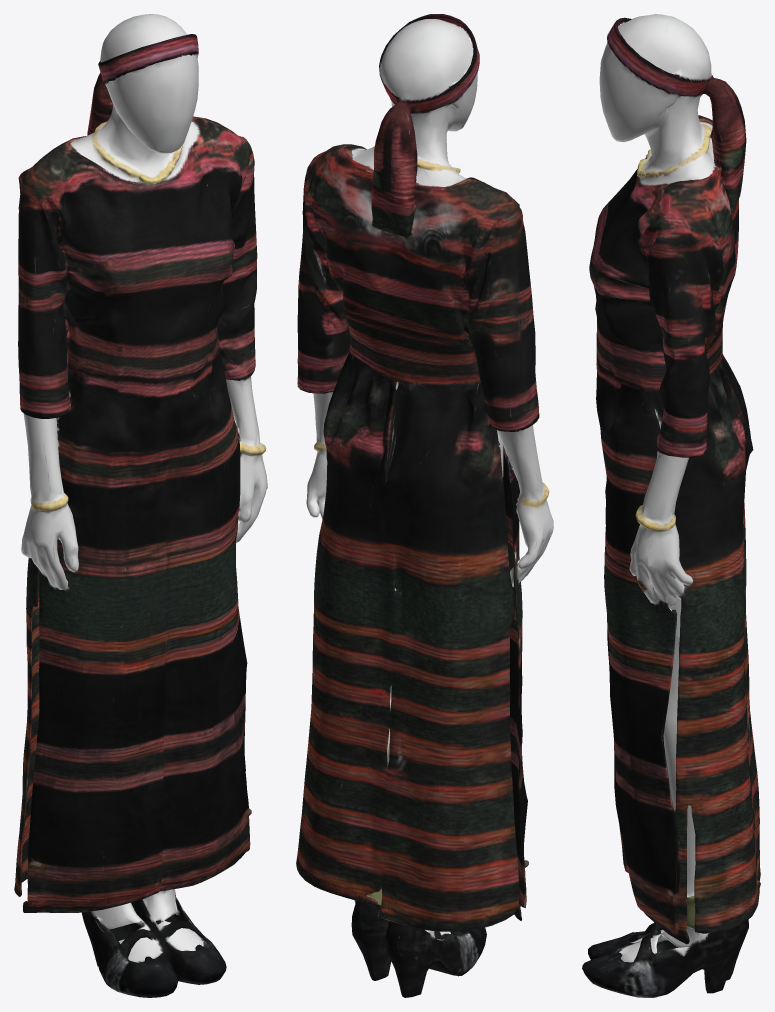
Rendered from Chu_ru_nu_00001.glb.
3 views of the same model, side by side, from view 1: azimuth 30°, elevation 25°; view 2: azimuth 150°, elevation 25°; view 3: azimuth 270°, elevation 25° (orthographic). The views are drawn at different scales.
Bounding box in the file's own units: 0.255 × 0.994 × 0.1667.
Materials: 1 (1 with a texture image).
